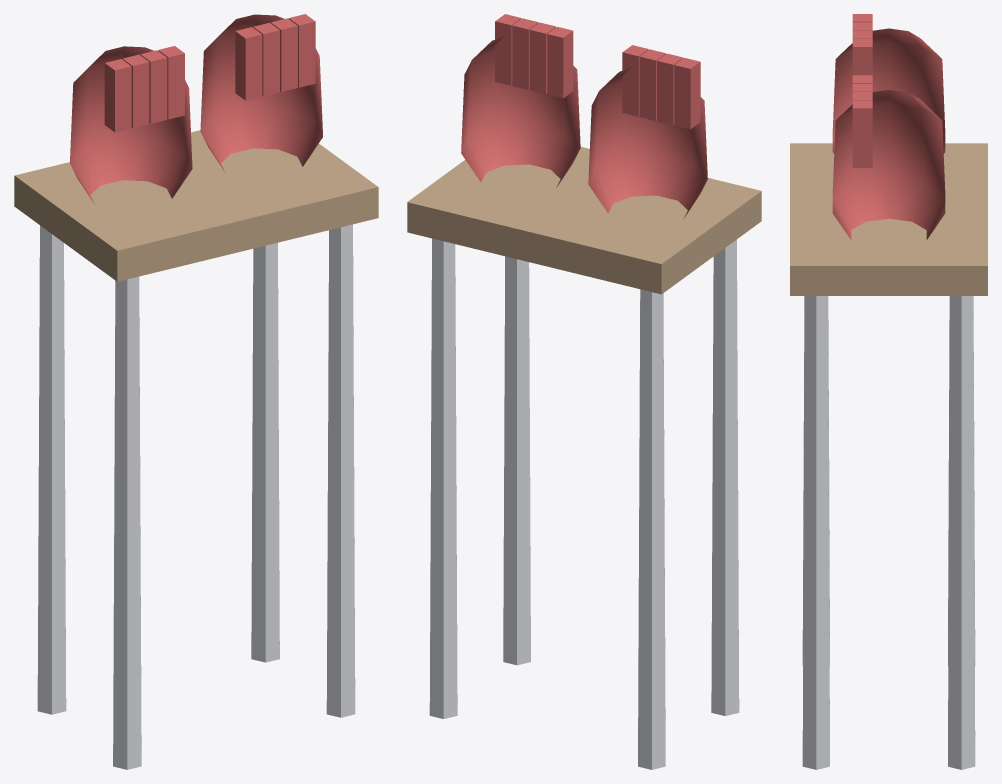
The model's file is gloves_shelf.glb.
3 renders of one model, left to right at view 1: azimuth 30°, elevation 25°; view 2: azimuth 150°, elevation 25°; view 3: azimuth 270°, elevation 25°, orthographic. The views are drawn at different scales.
Visible parts, largest first — view 1: gloves-on-shelf; view 2: gloves-on-shelf; view 3: gloves-on-shelf.
Boxes of the visible parts, <box> form: gloves-on-shelf: <box>14,14,378,769</box>; gloves-on-shelf: <box>407,14,761,769</box>; gloves-on-shelf: <box>790,14,987,769</box>.
Bounding box in the file's own units: 0.44 × 1.09 × 0.3.
